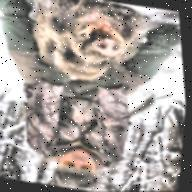boar: (23, 0, 166, 94)
